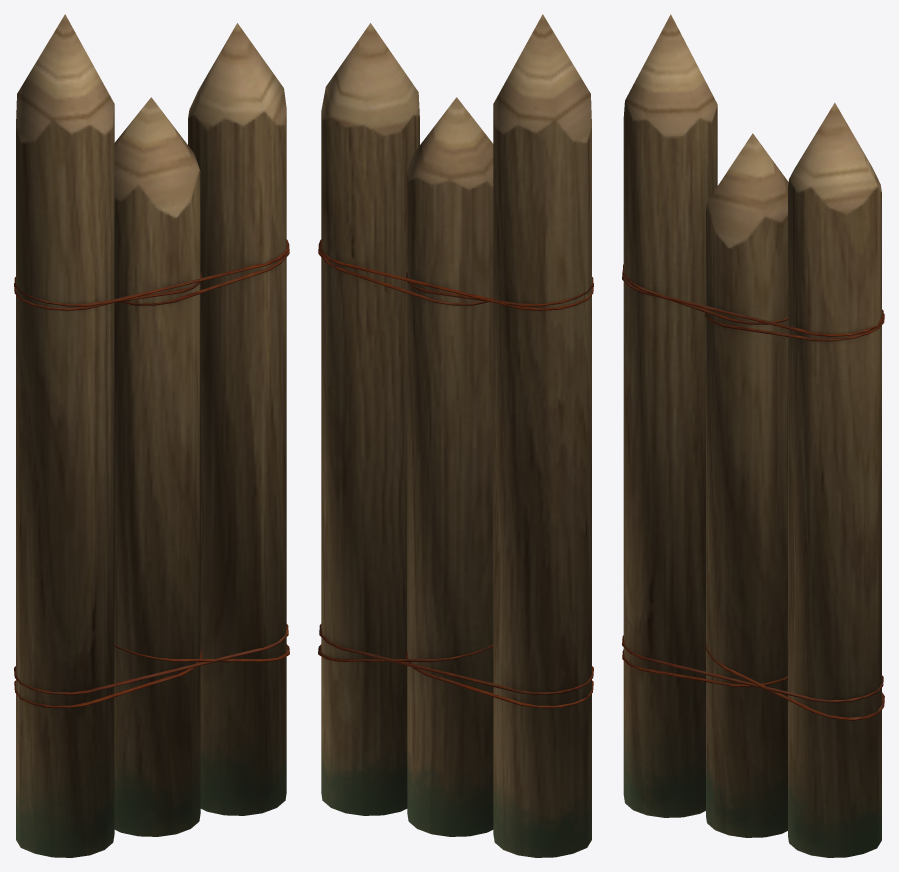
Rendered from sb_obj_outdoor015_WoodWall01a.fbx.
3 views of the same model, side by side, from view 1: azimuth 30°, elevation 25°; view 2: azimuth 150°, elevation 25°; view 3: azimuth 330°, elevation 25° (orthographic). The views are drawn at different scales.
Visible parts, largest first — view 1: sb_obj_outdoor015_WoodWall01a, wire_01a; view 2: sb_obj_outdoor015_WoodWall01a, wire_01a; view 3: sb_obj_outdoor015_WoodWall01a, wire_01a.
Boxes of the visible parts, left/top/right/bottom form: sb_obj_outdoor015_WoodWall01a: left=16, top=14, right=286, bottom=857; wire_01a: left=14, top=239, right=289, bottom=708; sb_obj_outdoor015_WoodWall01a: left=321, top=14, right=591, bottom=857; wire_01a: left=318, top=239, right=593, bottom=708; sb_obj_outdoor015_WoodWall01a: left=623, top=14, right=881, bottom=857; wire_01a: left=622, top=264, right=884, bottom=720.
Size of the model in its own units: 1.01 by 3 by 0.348.
